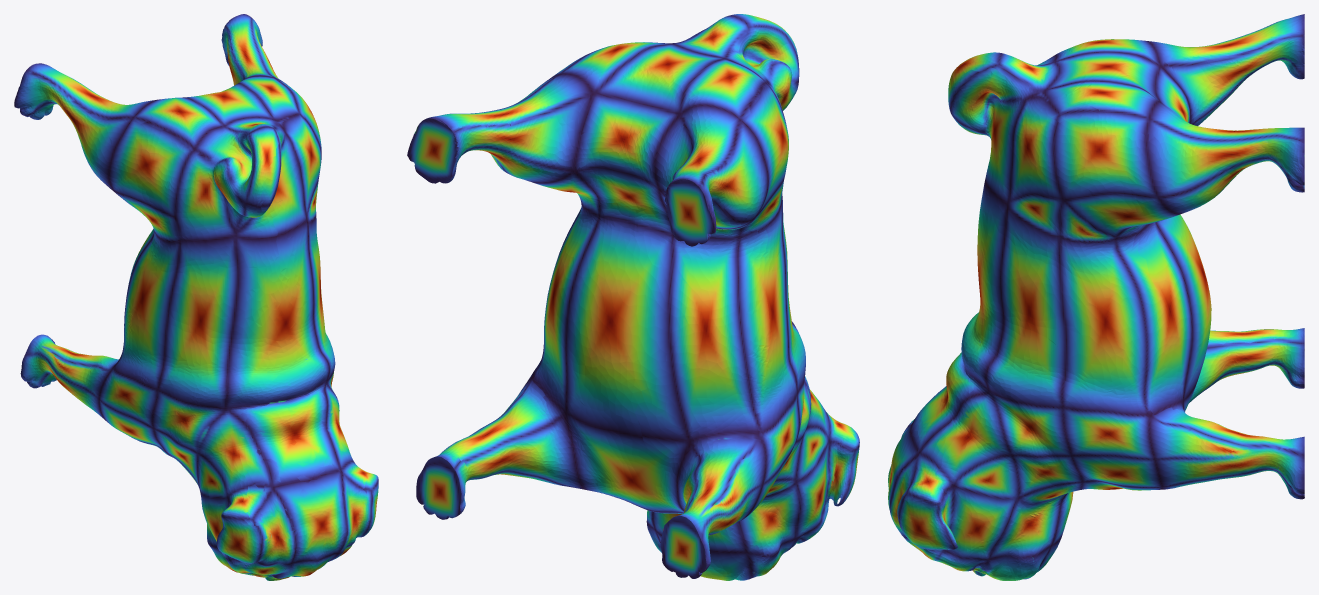
File: gen1.glb
3 renders of one model, left to right at view 1: azimuth 30°, elevation 25°; view 2: azimuth 150°, elevation 25°; view 3: azimuth 270°, elevation 25°, orthographic. The views are drawn at different scales.
Visible parts, largest first — view 1: Node; view 2: Node; view 3: Node.
Boxes of the visible parts, x1,y1,x2,y2 form: Node: (14,14,378,580); Node: (407,14,859,580); Node: (888,14,1304,580).
Size of the model in its own units: 34.02 by 58.6 by 43.33.
Materials: 1 (1 with a texture image).
